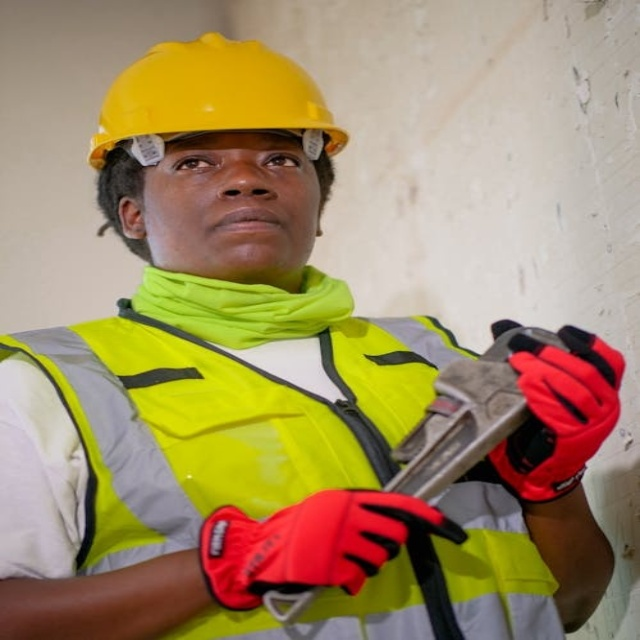Guantes: (201, 487, 465, 611), (480, 320, 624, 503)
Sin_gafas: (166, 152, 303, 188)
Sin_mascara: (188, 205, 301, 257)
